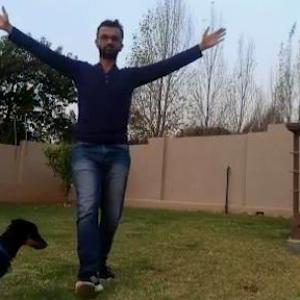takeoff: (0, 0, 240, 279)
